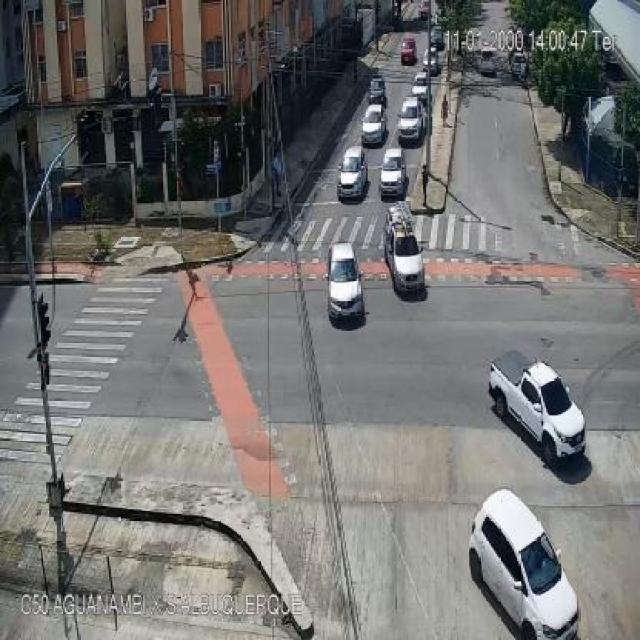Car: (467, 485, 580, 640), (488, 350, 588, 464), (325, 240, 364, 322), (337, 146, 368, 202), (395, 99, 426, 144), (380, 146, 406, 198), (360, 104, 388, 147), (397, 37, 418, 66), (411, 72, 431, 100), (368, 78, 388, 104)
Truck: (385, 204, 426, 292)
